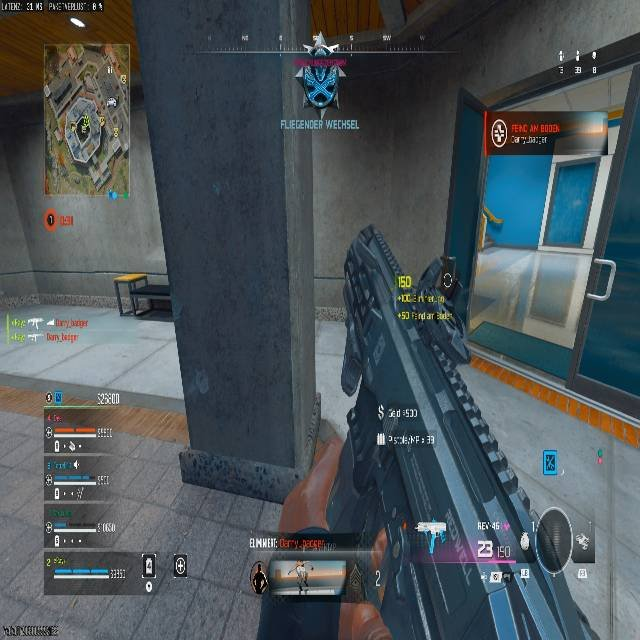head: (297, 561, 303, 568)
player: (294, 33, 347, 115), (294, 563, 309, 593)
